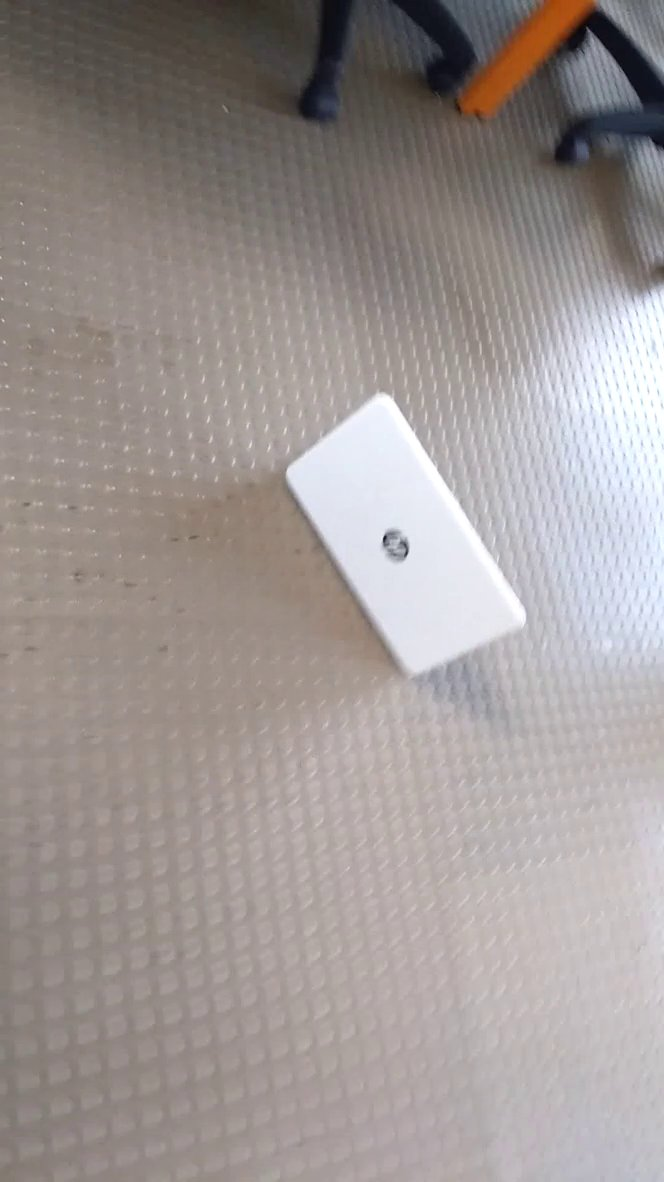laptop: (275, 375, 532, 692)
